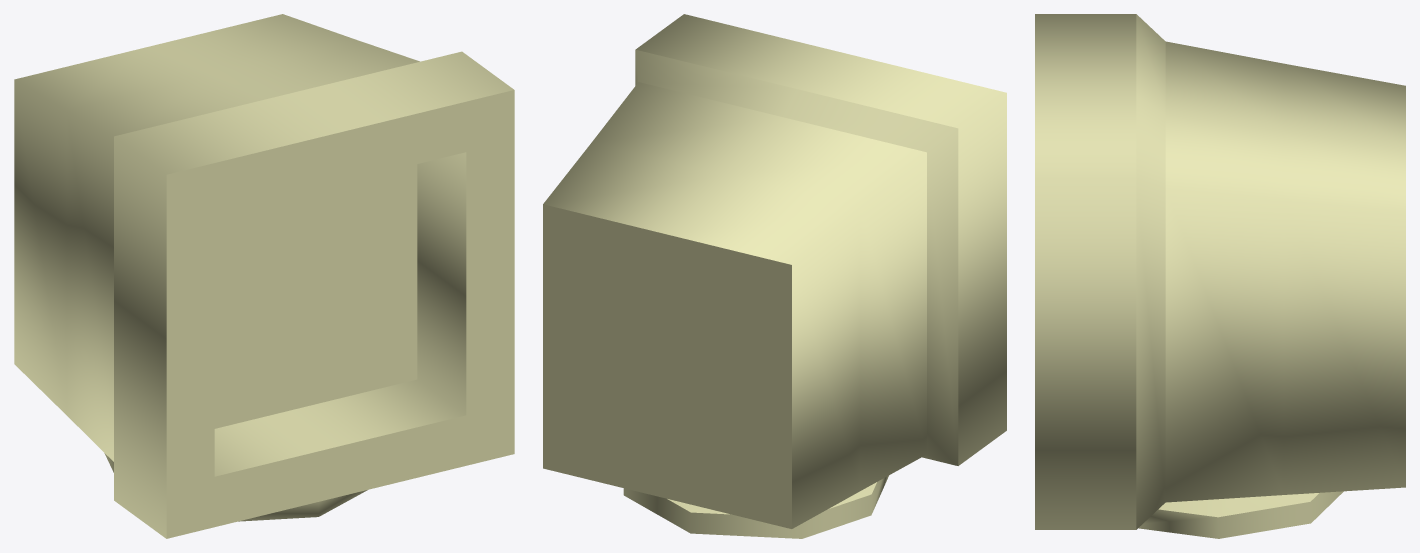
File: CRT.fbx
3 views of the same model, side by side, from view 1: azimuth 30°, elevation 25°; view 2: azimuth 150°, elevation 25°; view 3: azimuth 270°, elevation 25° (orthographic). The views are drawn at different scales.
Visible parts, largest first — view 1: CRT; view 2: CRT; view 3: CRT.
Boxes of the visible parts, x1,y1,x2,y2 form: CRT: (14,14,514,538); CRT: (543,14,1006,538); CRT: (1035,14,1405,538).
Size of the model in its own units: 200 by 220 by 191.
